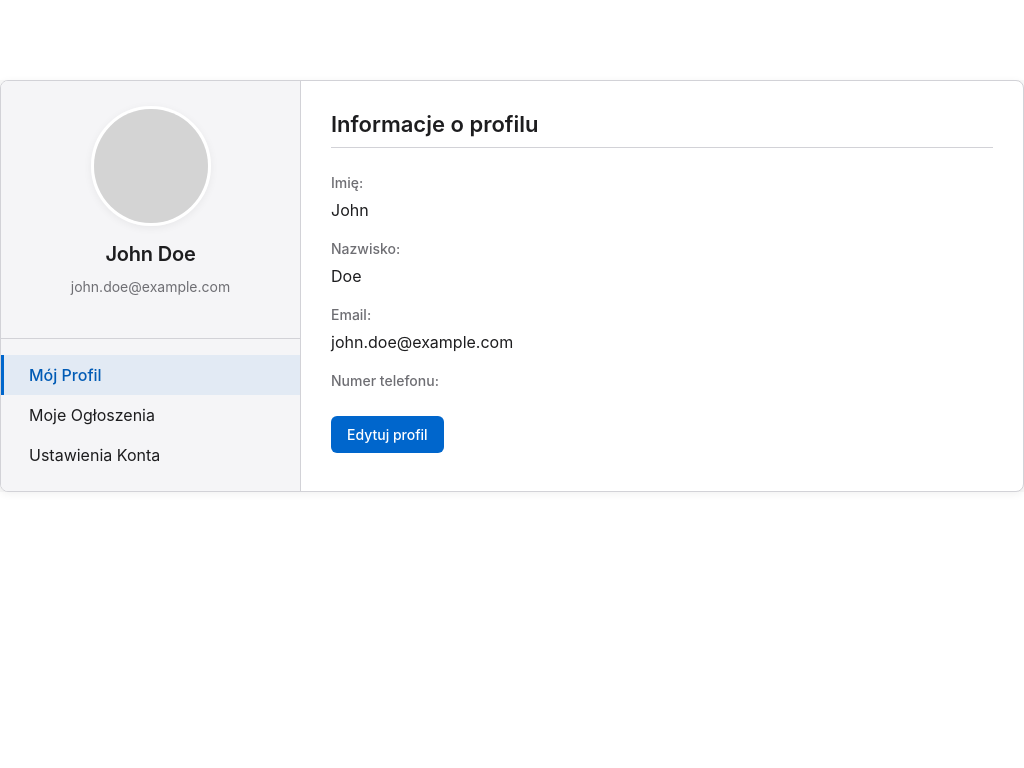
Scenario: UserPanel Component › switches to settings tab when clicked
Expected: the heading "John Doe" is shown, left=105, top=242, right=196, bottom=266
Click the list item "Ustawienia Konta" at [95, 455], box left=29, top=445, right=160, bottom=465
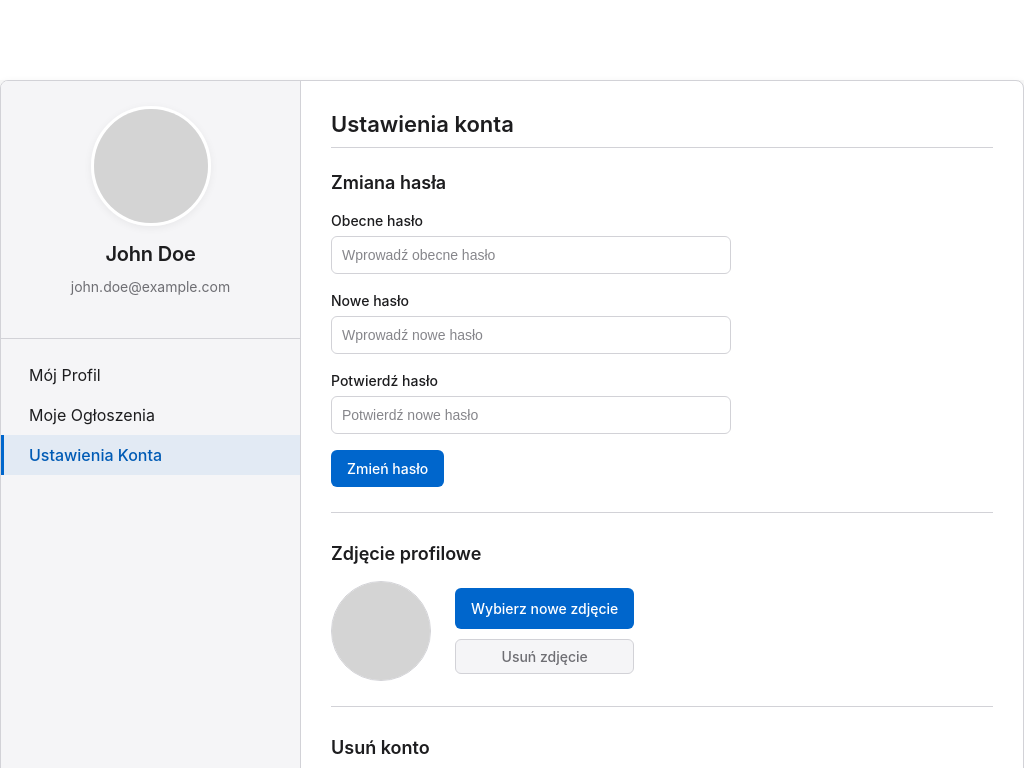
Expected: the heading "Ustawienia konta" is shown, left=331, top=111, right=993, bottom=148
